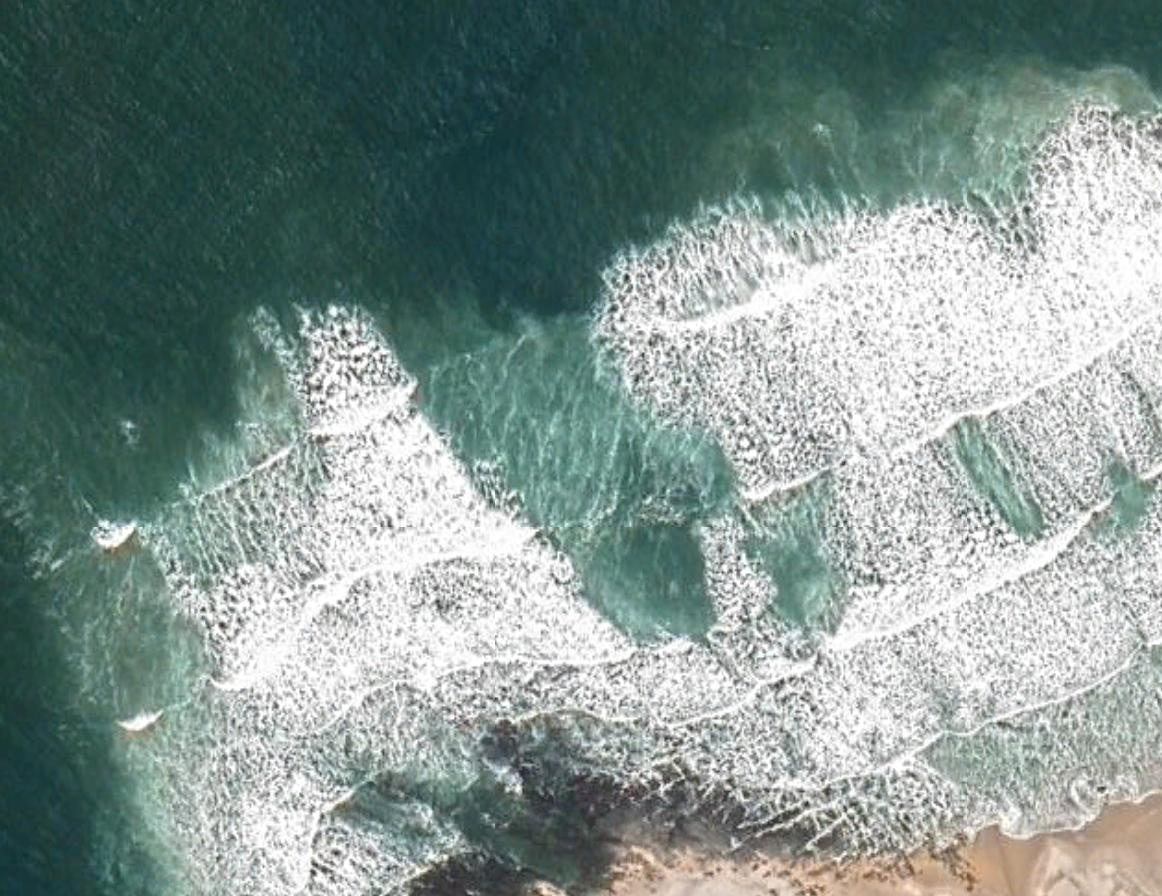rip_current: (387, 227, 775, 648)
